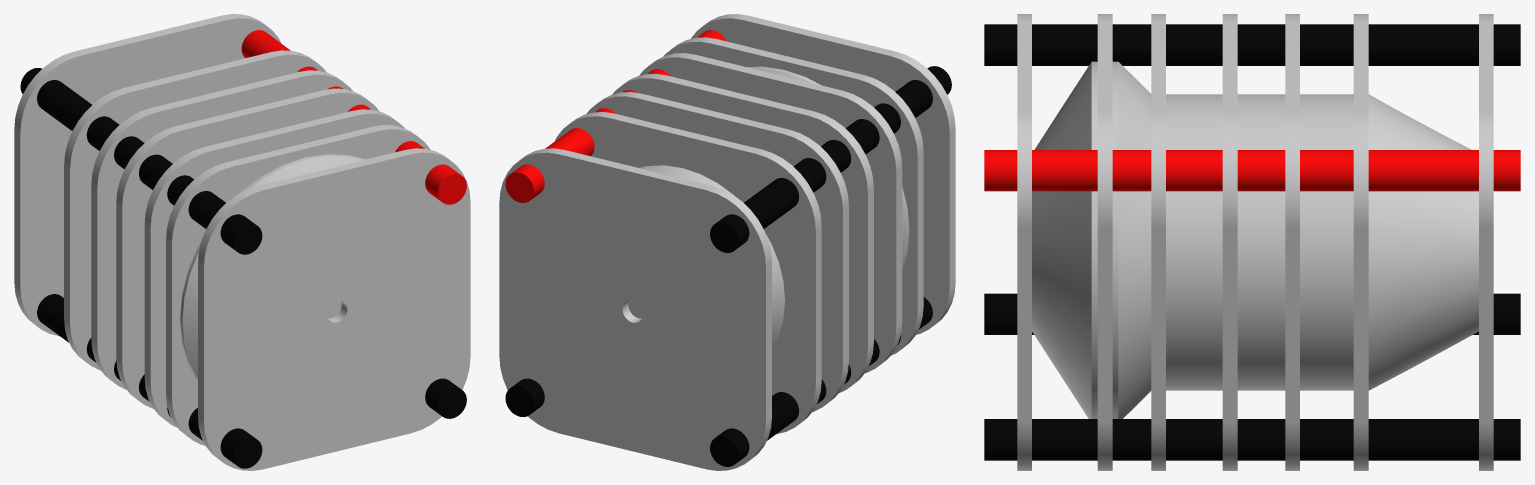
Rendered from collimator-colored.glb.
3 renders of one model, left to right at view 1: azimuth 30°, elevation 25°; view 2: azimuth 150°, elevation 25°; view 3: azimuth 270°, elevation 25°, orthographic. The views are drawn at different scales.
Parts seen in each view (by area): view 1: disk_1_1, disk_1_2, disk_3_2, disk_3_4, disk_3_3, disk_2, disk_3_1, rod_2, collimator, rod_3, rod_1, rod_4; view 2: disk_1_2, disk_3_4, disk_1_1, disk_3_1, disk_3_3, disk_3_2, disk_2, rod_2, rod_3, collimator, rod_1, rod_4; view 3: collimator, rod_4, rod_1, rod_2, disk_2, disk_3_2, disk_3_4, disk_1_1, disk_1_2, disk_3_1, disk_3_3, rod_3.
Boxes of the visible parts, left/top/right/bottom form: disk_1_1: left=198, top=148, right=470, bottom=470; disk_1_2: left=14, top=14, right=281, bottom=336; disk_3_2: left=116, top=88, right=379, bottom=408; disk_3_4: left=64, top=50, right=326, bottom=370; disk_3_3: left=91, top=70, right=352, bottom=389; disk_2: left=166, top=125, right=430, bottom=445; disk_3_1: left=144, top=109, right=404, bottom=427; rod_2: left=20, top=68, right=262, bottom=254; collimator: left=180, top=154, right=365, bottom=381; rod_3: left=37, top=294, right=262, bottom=468; rod_1: left=241, top=30, right=466, bottom=204; rod_4: left=425, top=378, right=466, bottom=418; disk_1_2: left=499, top=148, right=771, bottom=470; disk_3_4: left=554, top=112, right=821, bottom=434; disk_1_1: left=691, top=14, right=955, bottom=334; disk_3_1: left=639, top=53, right=902, bottom=373; disk_3_3: left=586, top=92, right=848, bottom=412; disk_3_2: left=612, top=74, right=873, bottom=393; disk_2: left=663, top=37, right=923, bottom=355; rod_2: left=710, top=66, right=951, bottom=252; rod_3: left=710, top=297, right=932, bottom=466; collimator: left=628, top=66, right=909, bottom=348; rod_1: left=505, top=30, right=726, bottom=202; rod_4: left=505, top=378, right=544, bottom=416; collimator: left=1032, top=61, right=1478, bottom=418; rod_4: left=984, top=419, right=1520, bottom=460; rod_1: left=984, top=150, right=1520, bottom=191; rod_2: left=984, top=24, right=1520, bottom=65; disk_2: left=1097, top=14, right=1112, bottom=470; disk_3_2: left=1222, top=14, right=1237, bottom=470; disk_3_4: left=1353, top=14, right=1368, bottom=470; disk_1_1: left=1017, top=14, right=1031, bottom=470; disk_1_2: left=1479, top=14, right=1493, bottom=470; disk_3_1: left=1151, top=14, right=1165, bottom=470; disk_3_3: left=1285, top=14, right=1299, bottom=470; rod_3: left=984, top=293, right=1520, bottom=334.
Size of the model in its own units: 0.13 by 0.13 by 0.18.
